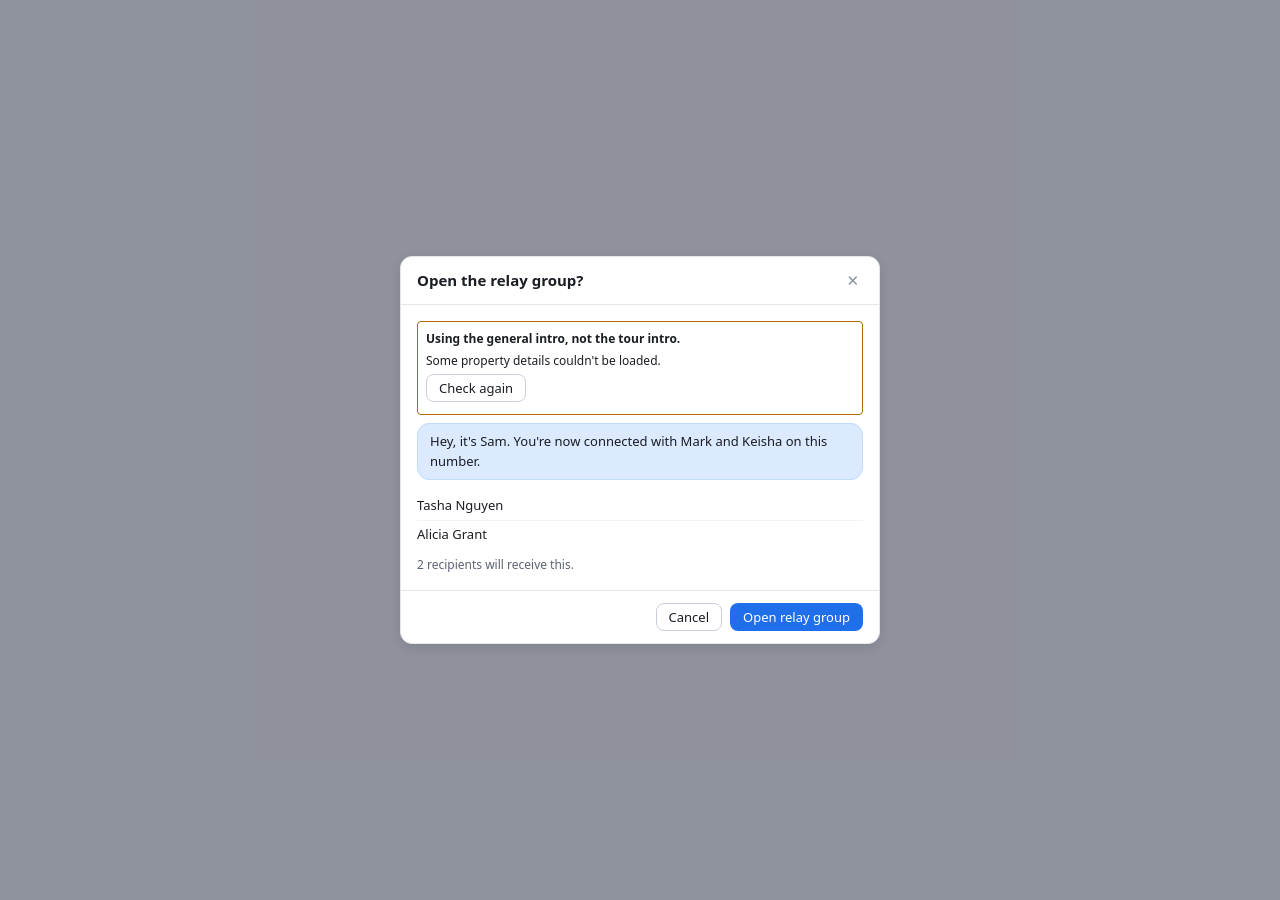
Test: RosterConfirmDialog - the intro fallback box (primary-contact-integrity spec 7.1) › a failed Check again renders in the error line and the dialog stays open
This screenshot has width=1280, height=900.
Click the button "Check again".
click(476, 388)  # box x1=426 y1=374 x2=526 y2=402
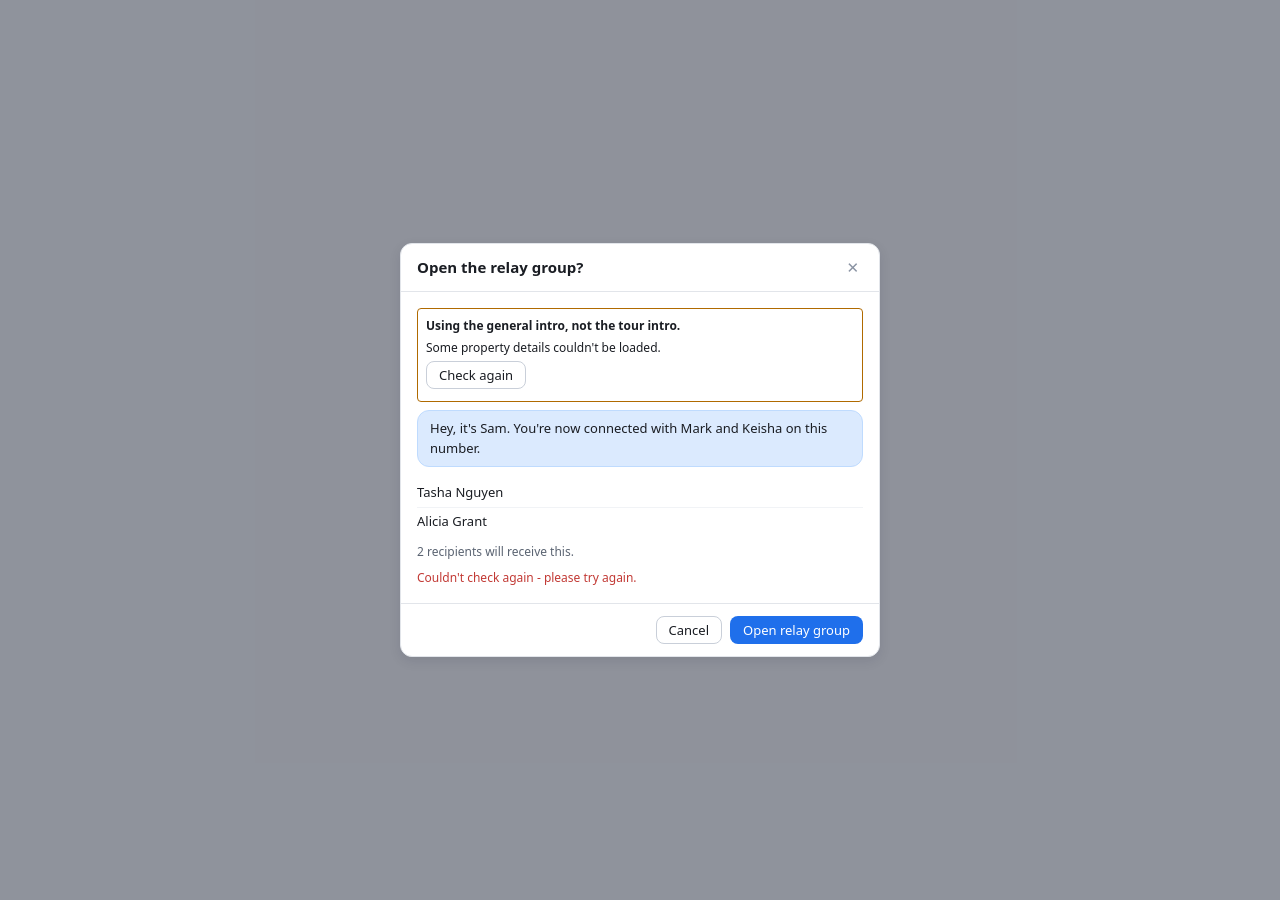
Expected: the dialog is shown, x1=400 y1=243 x2=880 y2=657
Expected: the message "Couldn't check again - please try again." is shown, x1=417 y1=569 x2=637 y2=586
